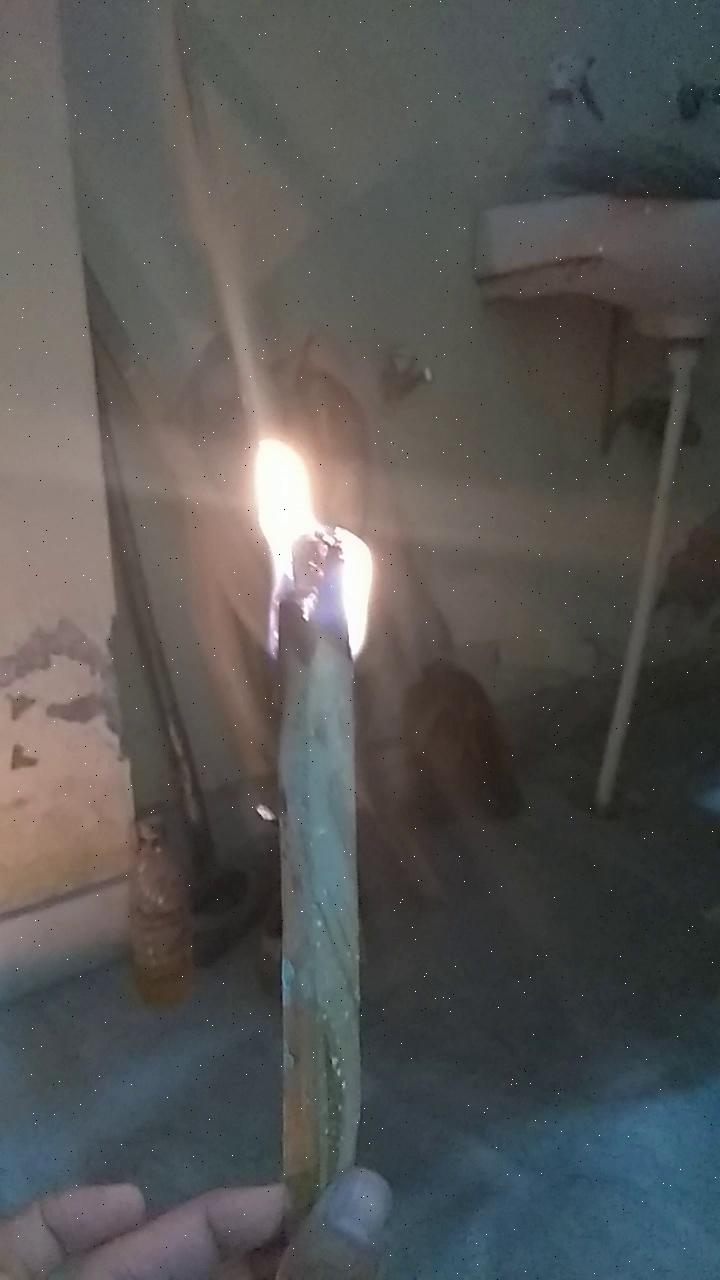fire: (238, 394, 416, 659)
